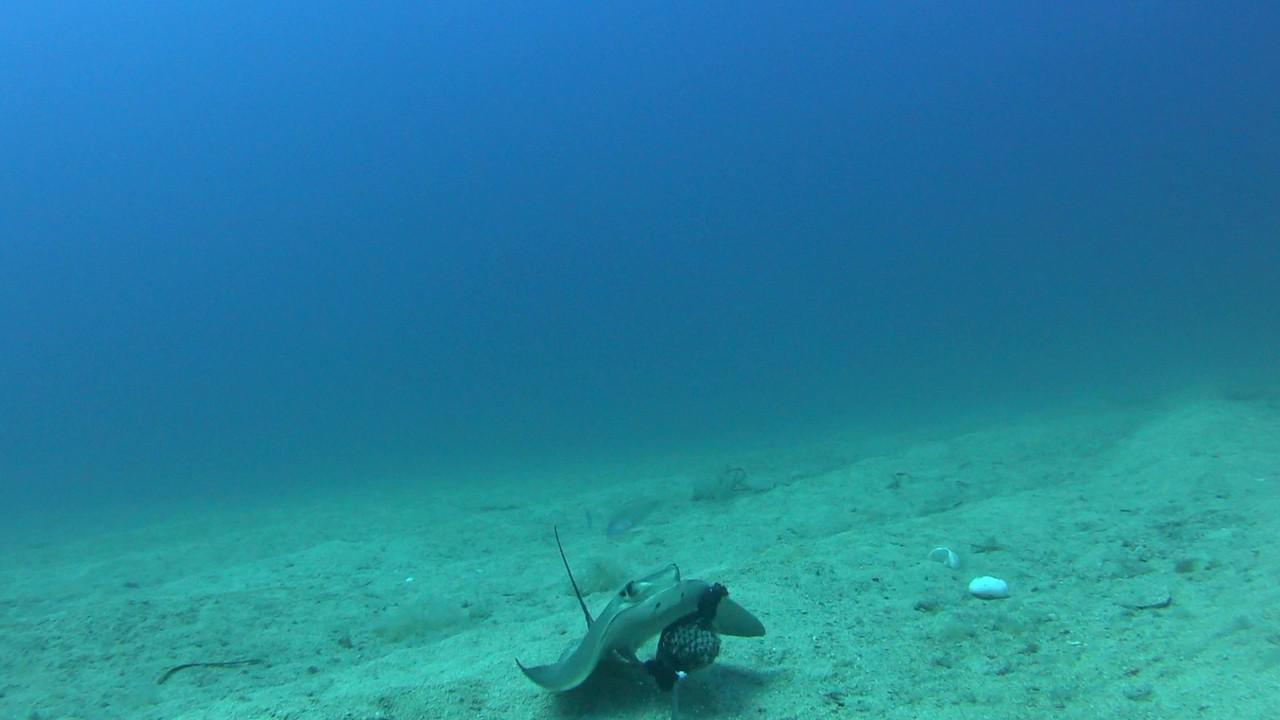myliobatis: (492, 508, 774, 716)
